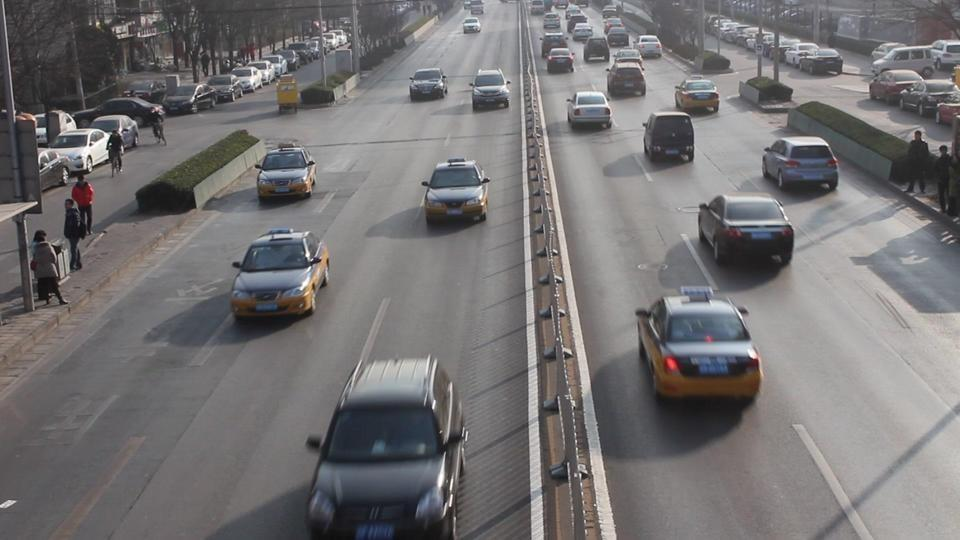car: (303, 353, 469, 538), (634, 289, 764, 401), (230, 228, 332, 317), (697, 193, 795, 267), (420, 159, 492, 223), (761, 135, 839, 192), (254, 146, 318, 199), (45, 129, 116, 176), (642, 111, 695, 164), (871, 44, 946, 79), (96, 99, 165, 133), (868, 69, 927, 104), (159, 81, 219, 115), (898, 83, 959, 116), (565, 91, 614, 132), (785, 43, 844, 76), (674, 77, 721, 116), (471, 68, 511, 111), (89, 115, 139, 149), (605, 61, 648, 100), (408, 67, 448, 101), (204, 75, 244, 102), (231, 66, 264, 92), (546, 47, 576, 75), (936, 94, 959, 126), (636, 35, 663, 60), (463, 17, 482, 34)
